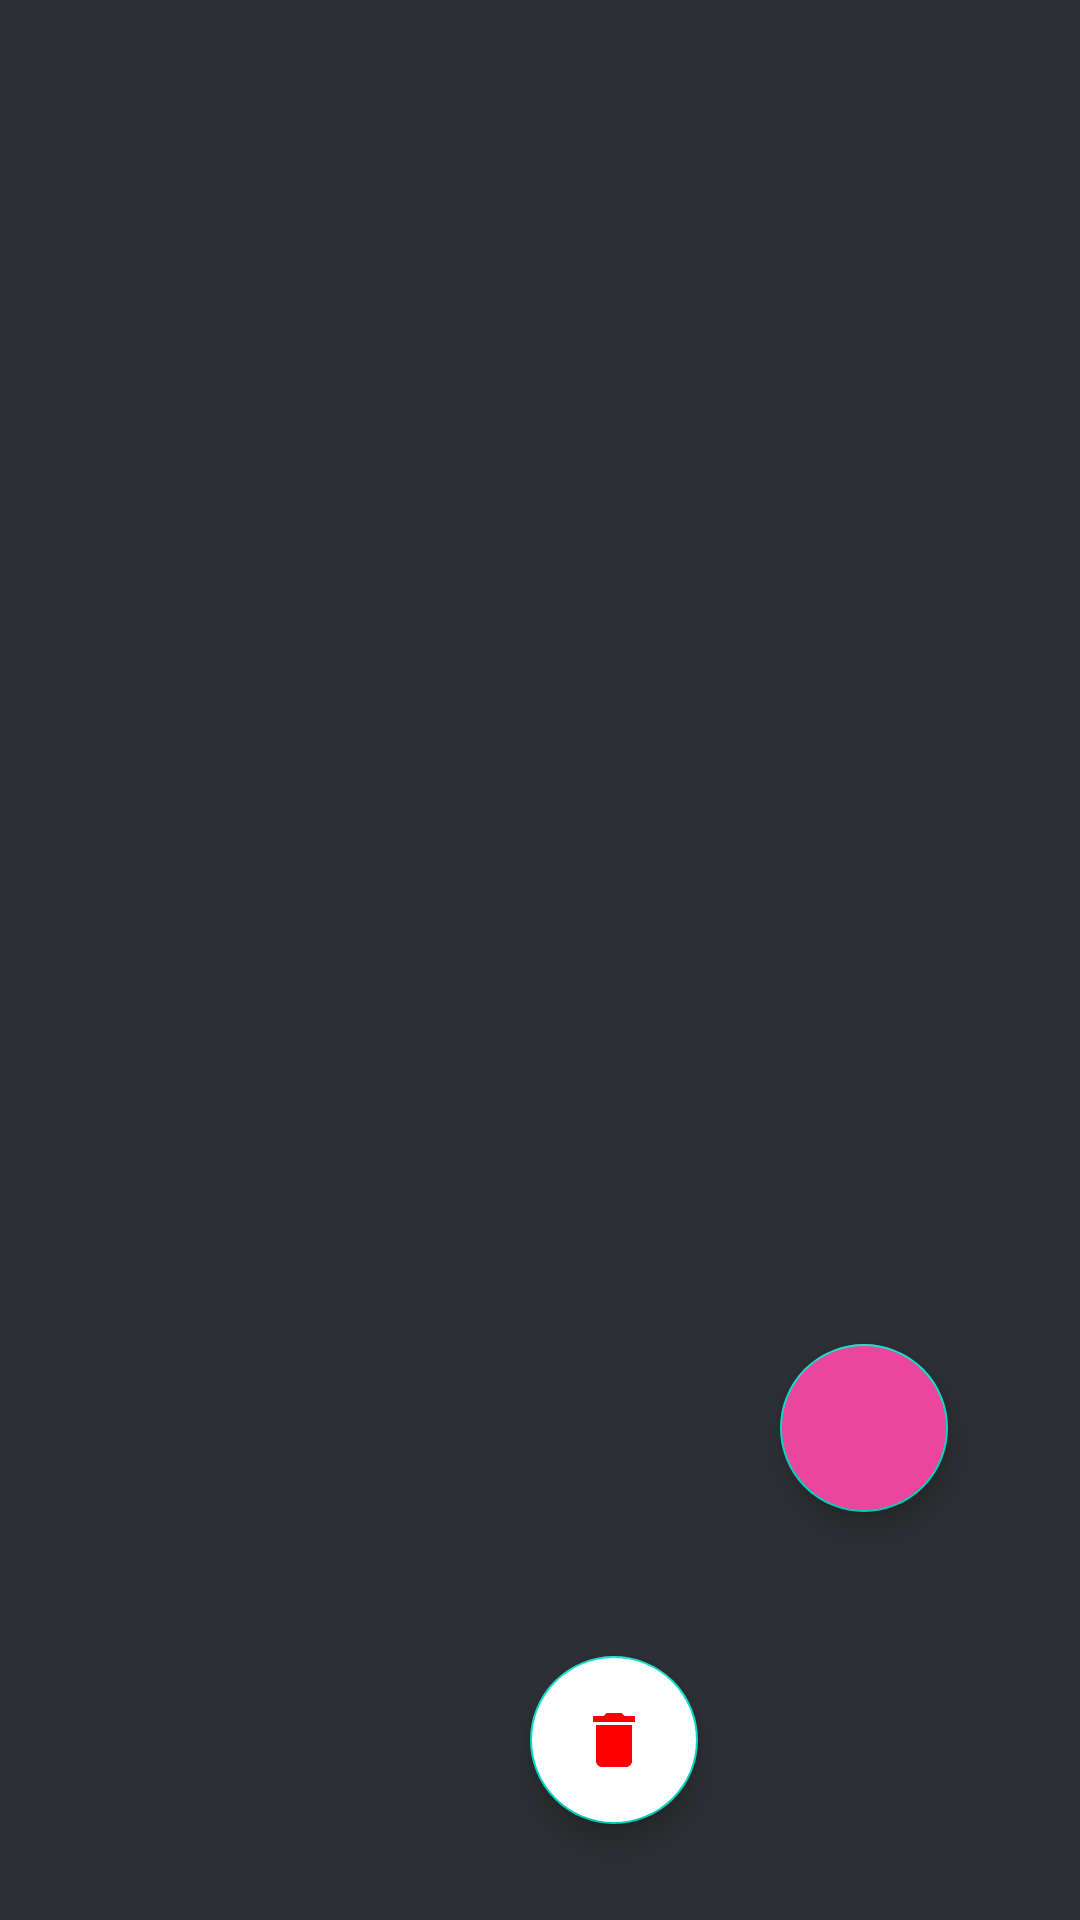

Where to tap for icons on this 1080*1920 app screen, as point (x, y):
delete: point (614, 1740)
